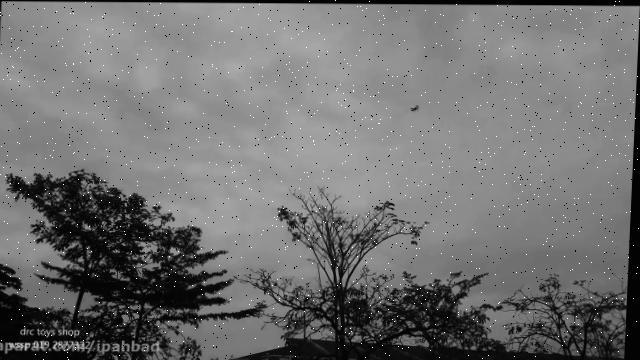drone: (408, 101, 423, 112)
